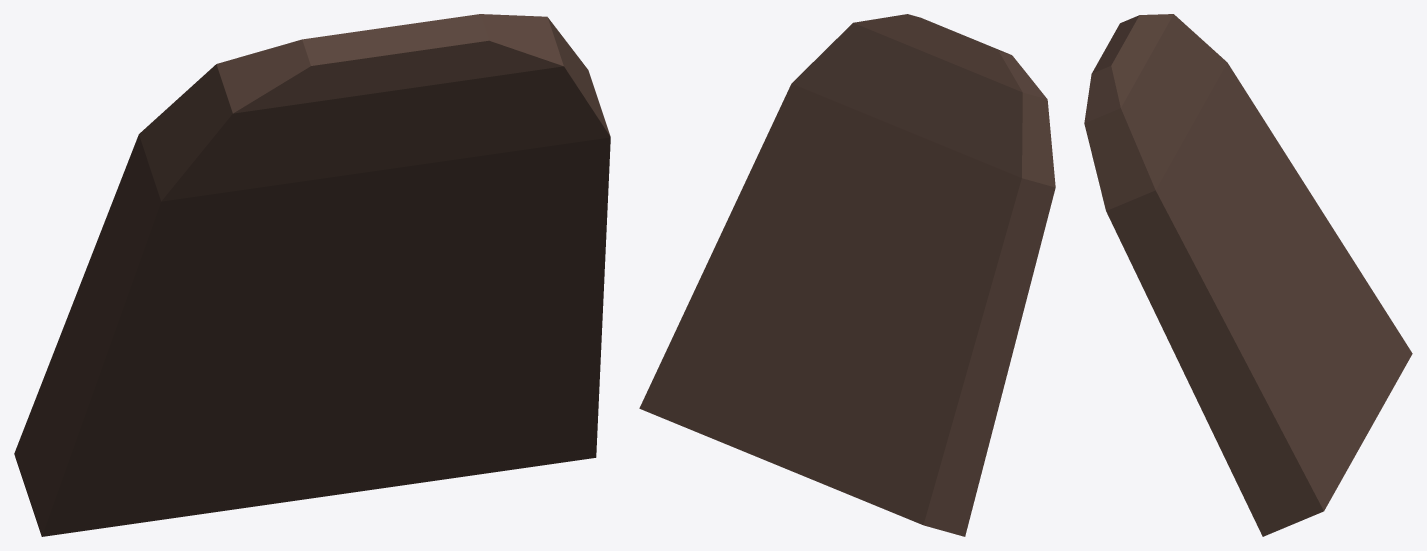
Rendered from DungeonForestDoor.obj.
The picture shows the model from 3 angles, left to right: view 1: azimuth 30°, elevation 25°; view 2: azimuth 150°, elevation 25°; view 3: azimuth 270°, elevation 25°; orthographic projection. The views are drawn at different scales.
Visible parts, largest first — view 1: Dungeon-Forest-Door; view 2: Dungeon-Forest-Door; view 3: Dungeon-Forest-Door.
Boxes of the visible parts, x1=… form: Dungeon-Forest-Door: x1=14, y1=14, x2=610, y2=536; Dungeon-Forest-Door: x1=639, y1=14, x2=1055, y2=536; Dungeon-Forest-Door: x1=1084, y1=14, x2=1412, y2=536.
Size of the model in its own units: 3.92 by 4.28 by 3.18.
Materials: 1 (1 with a texture image).
